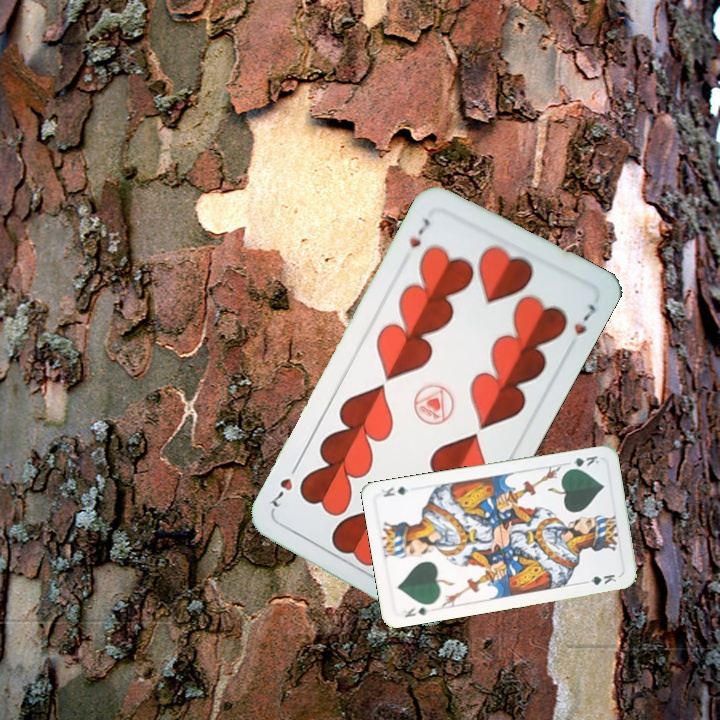GK: (563, 452, 602, 472), (401, 602, 432, 620)
H7: (405, 213, 434, 251)
